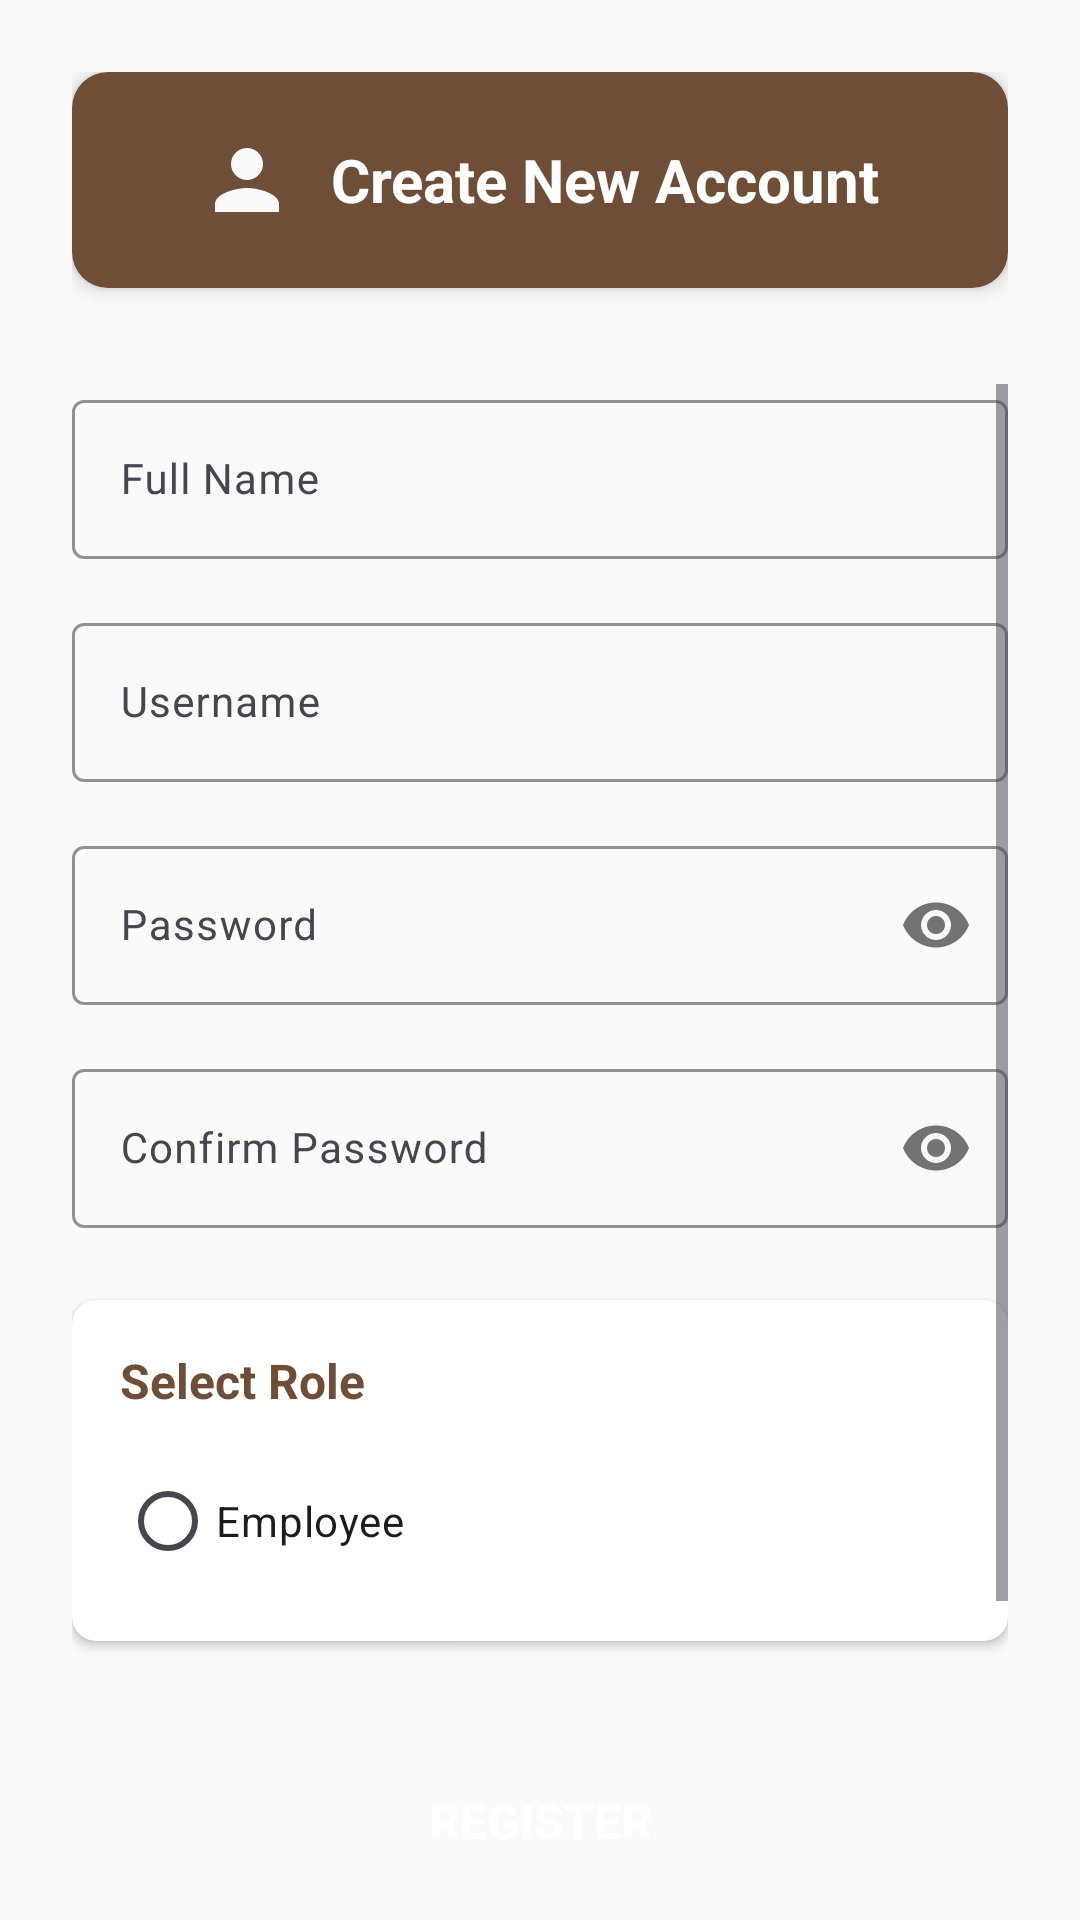

Where icons sit on this 1080*1920 app screen, as (x1, y1, x2, y2):
Register Icon: (215, 148, 279, 212)
